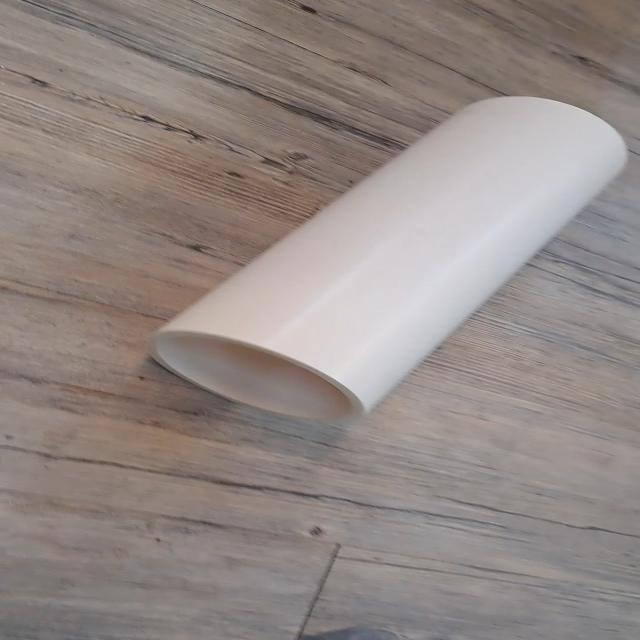CORAL: (131, 79, 637, 438)
